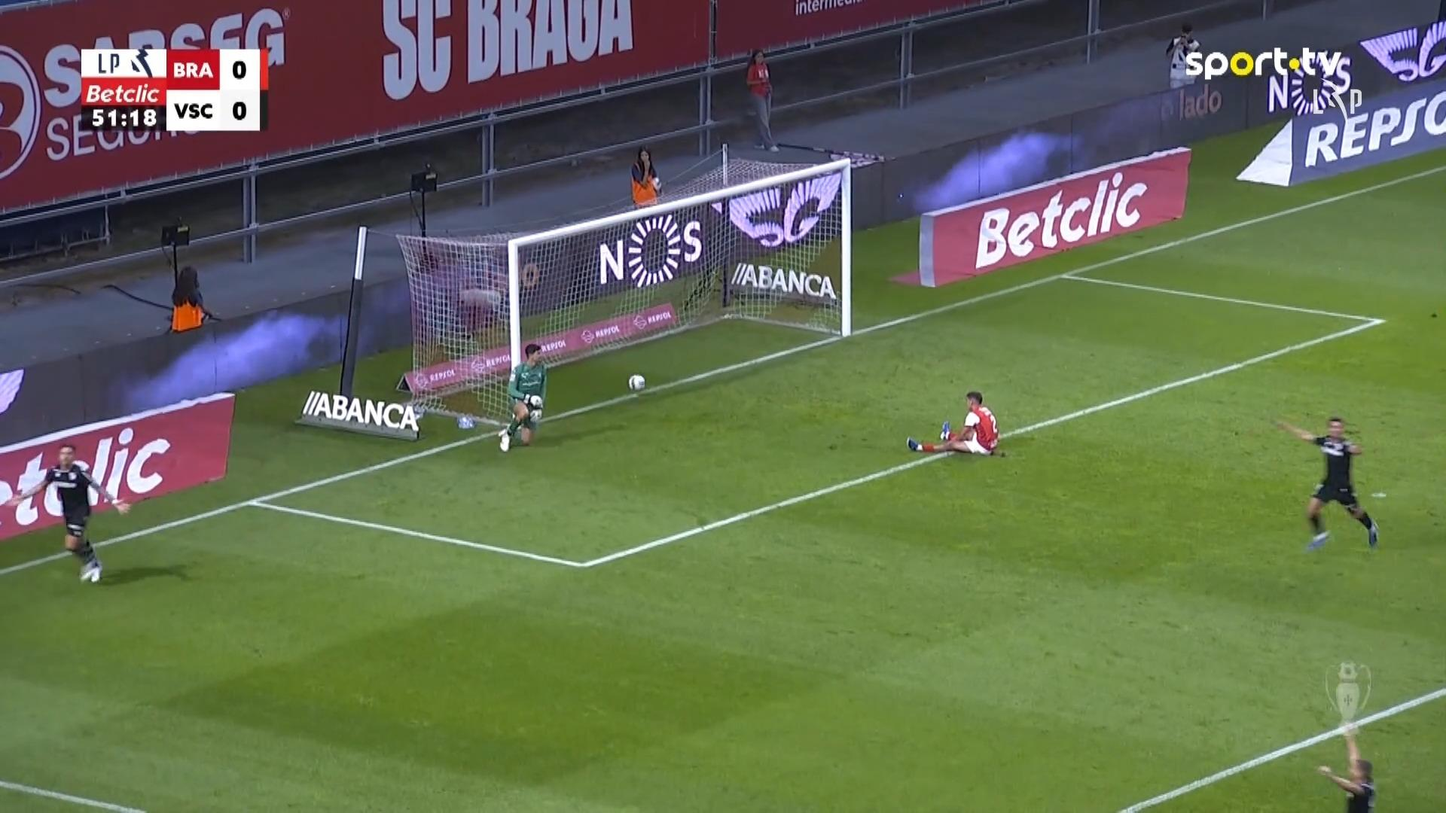ball: (627, 374, 645, 391)
goalkeeper: (497, 341, 548, 452)
player: (17, 442, 131, 583), (1275, 415, 1380, 552), (905, 389, 1001, 456), (1316, 720, 1376, 811)
